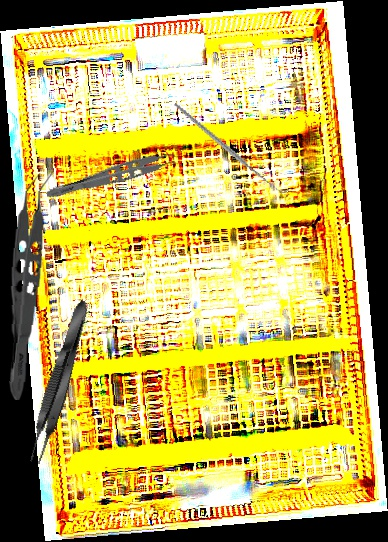Hook Surgical: (172, 76, 290, 219)
Tissue Forceps: (23, 297, 96, 467), (4, 171, 56, 402), (44, 145, 184, 211)
